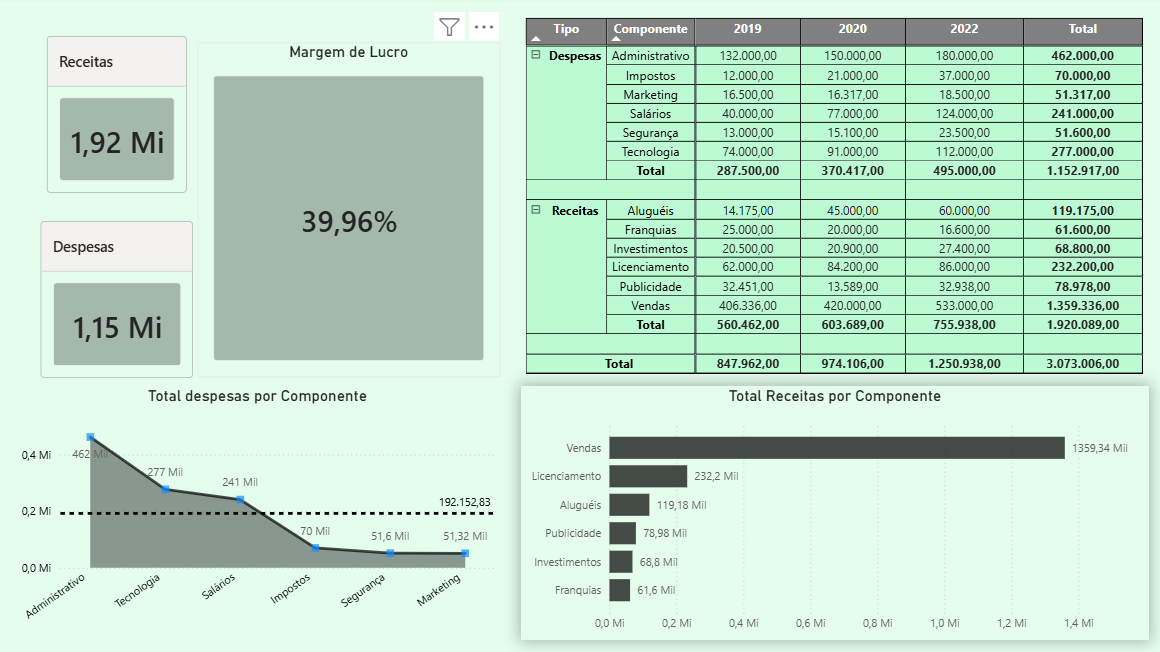

Layout of this report page (visuals, bound fields, positions):
{"tool":"powerbi","page":{"name":"Visualização Financeira","canvas":[1280,720],"ordinal":1},"visuals":[{"type":"cardVisual","fields":{"Data":["Sum(DadosFinanceiros.Valor)"],"Rows":["DadosFinanceiros.Tipo"]},"box":[46.7,19.2,163.3,222.3],"z":0},{"type":"cardVisual","fields":{"Data":["Sum(DadosFinanceiros.Valor)"],"Rows":["DadosFinanceiros.Tipo"]},"box":[39.8,222.3,177,222.3],"z":1000},{"type":"cardVisual","title":"Margem de Lucro","fields":{"Data":["Medidas Dados.Margem de lucro"]},"box":[216.8,50.8,332.1,367.8],"z":2000},{"type":"barChart","fields":{"Category":["DadosFinanceiros.Componente"],"Y":["Medidas Dados.Total Receitas"]},"box":[572.2,428.1,688.9,278.6],"z":3000},{"type":"areaChart","fields":{"Category":["DadosFinanceiros.Componente"],"Y":["Medidas Dados.Total despesas"]},"box":[16.5,428.1,532.4,278.6],"z":4000},{"type":"pivotTable","fields":{"Columns":["DadosFinanceiros.Data.Variation.Hierarquia de datas.Ano"],"Rows":["DadosFinanceiros.Tipo","DadosFinanceiros.Componente"],"Values":["Sum(DadosFinanceiros.Valor)"]},"box":[572.2,19.2,688.9,419.9],"z":5000}]}

Visuals, with their boxes in screenshot pixels (x1, y1, x2, y2), scaled from the page's 1280x720 canvas onto the 1160x652 screenshot:
cardVisual - Sum(DadosFinanceiros.Valor) x DadosFinanceiros.Tipo: (42,17,190,219)
cardVisual - Sum(DadosFinanceiros.Valor) x DadosFinanceiros.Tipo: (36,201,196,403)
"Margem de Lucro" cardVisual: (196,46,497,379)
barChart - DadosFinanceiros.Componente x Medidas Dados.Total Receitas: (519,388,1143,640)
areaChart - DadosFinanceiros.Componente x Medidas Dados.Total despesas: (15,388,497,640)
pivotTable - DadosFinanceiros.Data.Variation.Hierarquia de datas.Ano x DadosFinanceiros.Tipo: (519,17,1143,398)
